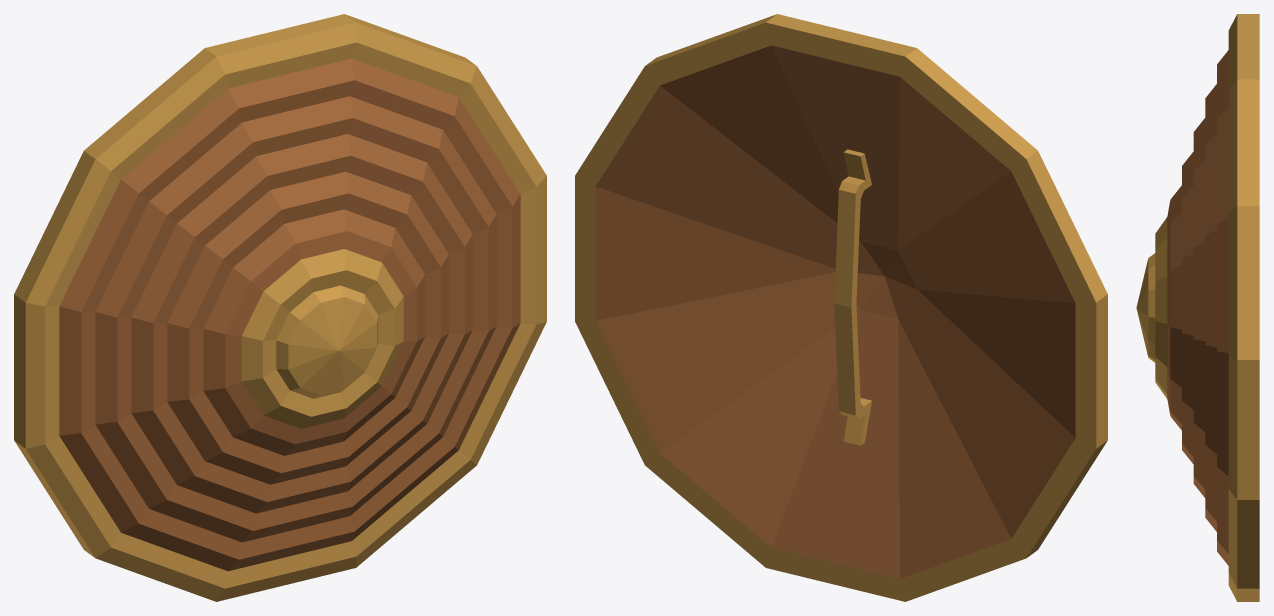
Rendered from SM_pwe_persia_shield_01.fbx.
The picture shows the model from 3 angles, left to right: view 1: azimuth 30°, elevation 25°; view 2: azimuth 150°, elevation 25°; view 3: azimuth 270°, elevation 25°; orthographic projection. The views are drawn at different scales.
Parts seen in each view (by area): view 1: SM_pwe_persia_shield_01; view 2: SM_pwe_persia_shield_01; view 3: SM_pwe_persia_shield_01.
Part boxes in pixels (x1=…): SM_pwe_persia_shield_01: x1=14, y1=14, x2=546, y2=601; SM_pwe_persia_shield_01: x1=575, y1=14, x2=1107, y2=601; SM_pwe_persia_shield_01: x1=1136, y1=14, x2=1259, y2=601.
Size of the model in its own units: 66.05 by 66.05 by 14.1.
